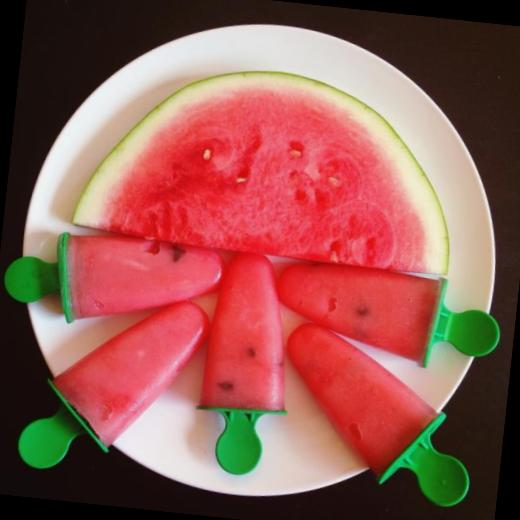Cherry: (43, 50, 470, 490)
